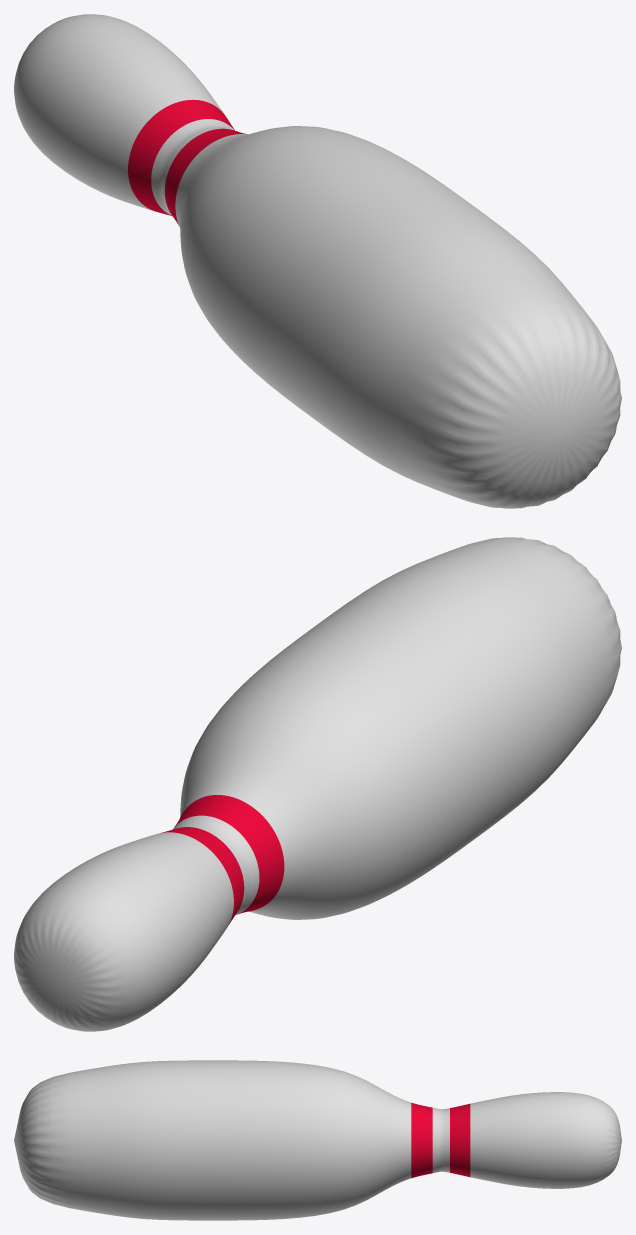
File: Bowling.fbx
3 views of the same model, one above another, from view 1: azimuth 30°, elevation 25°; view 2: azimuth 150°, elevation 25°; view 3: azimuth 270°, elevation 25° (orthographic). The views are drawn at different scales.
Parts seen in each view (by area): view 1: 円; view 2: 円; view 3: 円.
Boxes of the visible parts, x1,y1,x2,y2 form: 円: (14,14,621,508); 円: (14,537,621,1031); 円: (14,1060,621,1220).
Bounding box in the file's own units: 270 × 270 × 1027.
